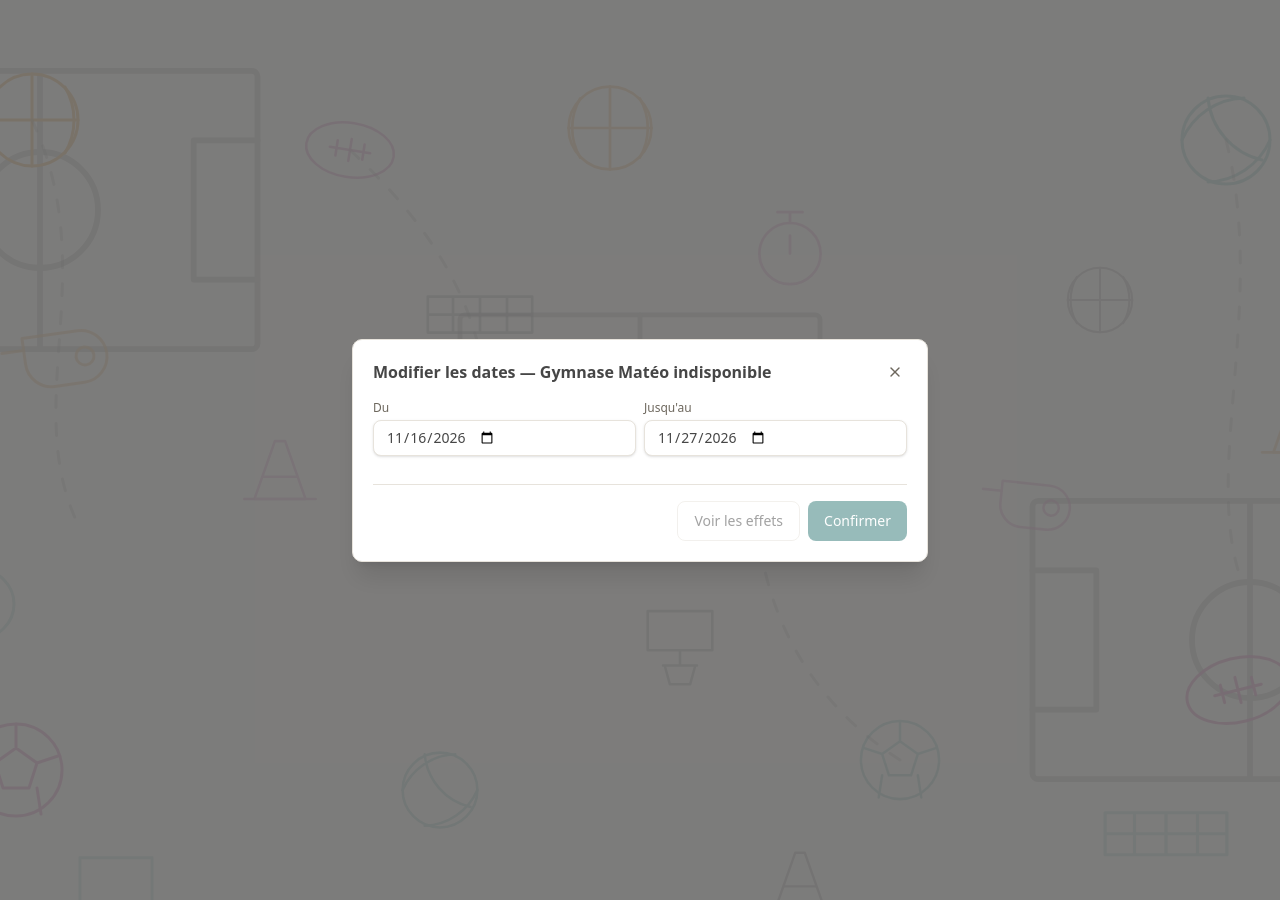
ClosureWindowDialog — annonce avant d'appliquer › « Voir les effets » rend la liste EXACTEMENT depuis les effets servis, dans l'ordre, label tel quel
The image size is (1280, 900).
Step 1. Type "2026-12-18" into the date field labelled "Jusqu'au" → coordinates (776, 438), box 644,420 -> 907,456
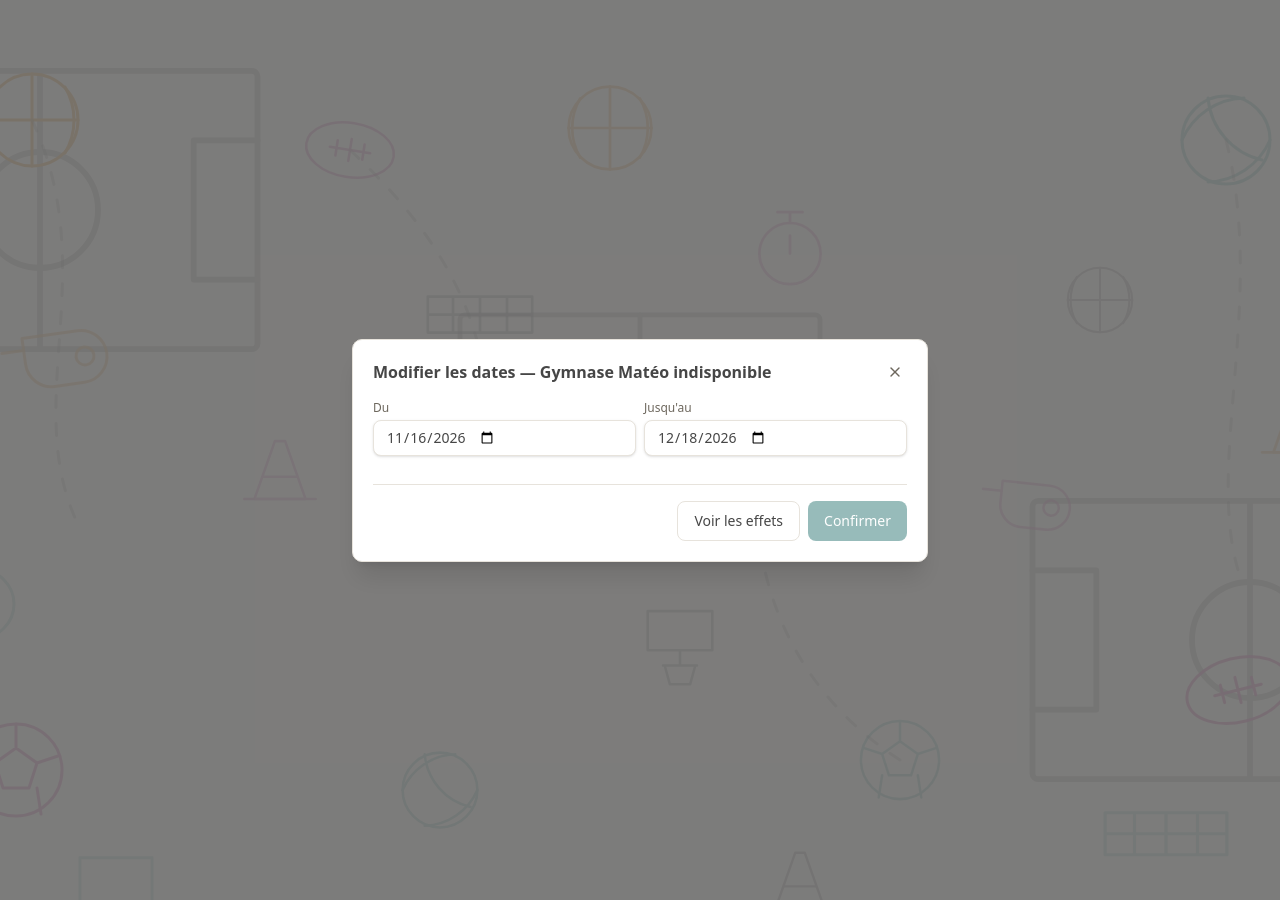
Step 2. Click the button "Voir les effets" → coordinates (739, 520), box 677,500 -> 800,540
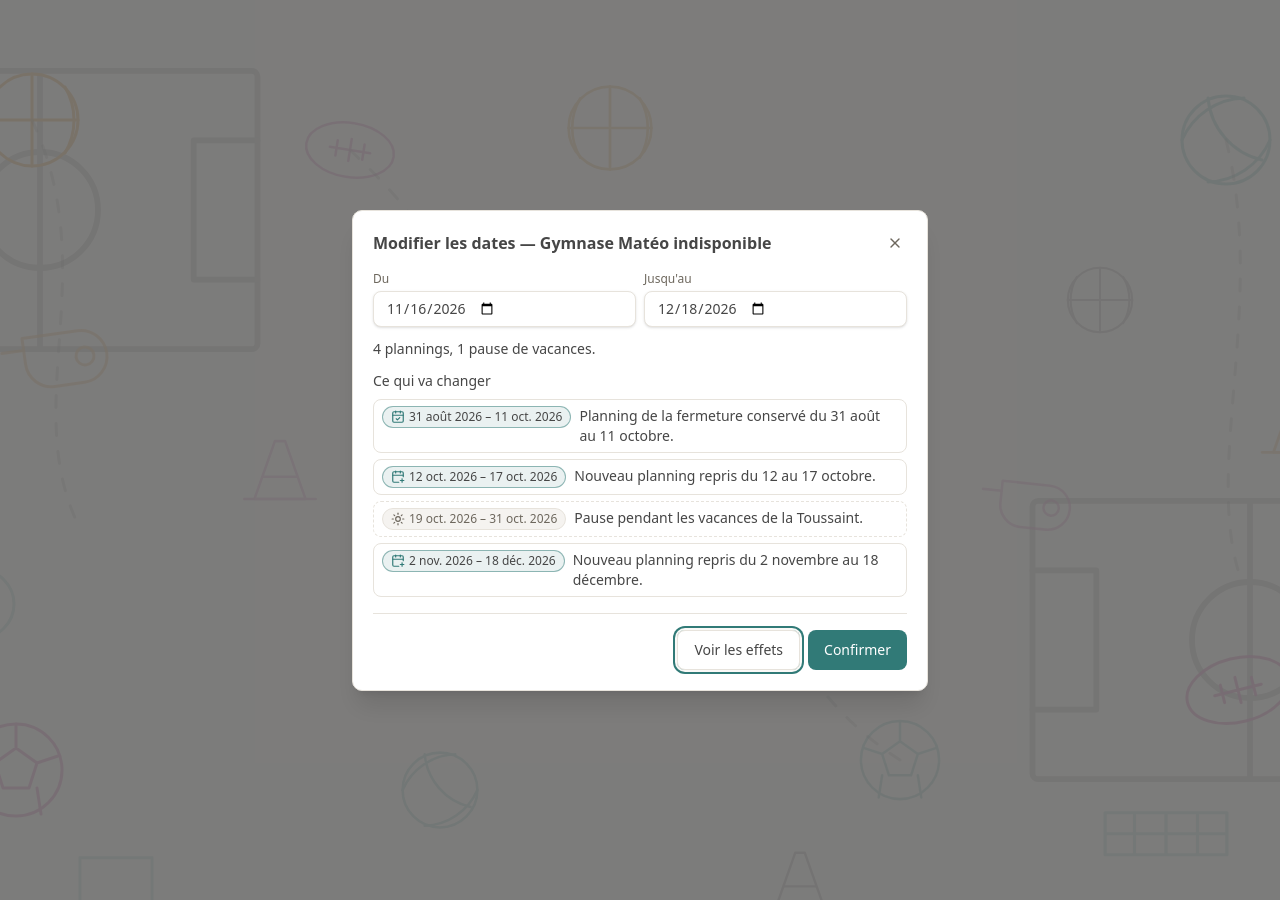
expect the number of list items is 4: met, box 373,398 -> 907,452; 373,458 -> 907,494; 373,500 -> 907,536; 373,542 -> 907,596
expect the text "Planning de la fermeture conservé du 31 août au 11 octobre." is shown: met, box 579,406 -> 898,446
expect the text "Nouveau planning repris du 12 au 17 octobre." is shown: met, box 574,466 -> 876,486
